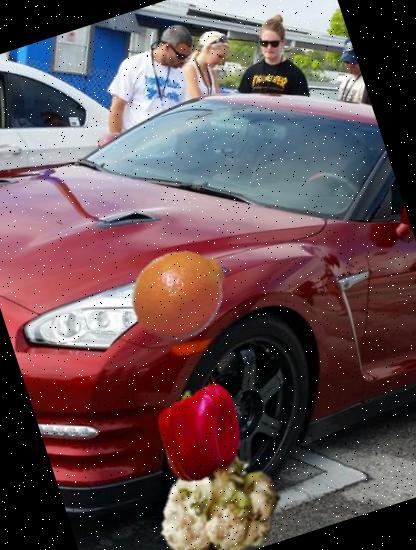Cauliflower: (137, 411, 298, 550)
Pepper: (142, 374, 260, 492)
Tangelo: (117, 230, 243, 356)
